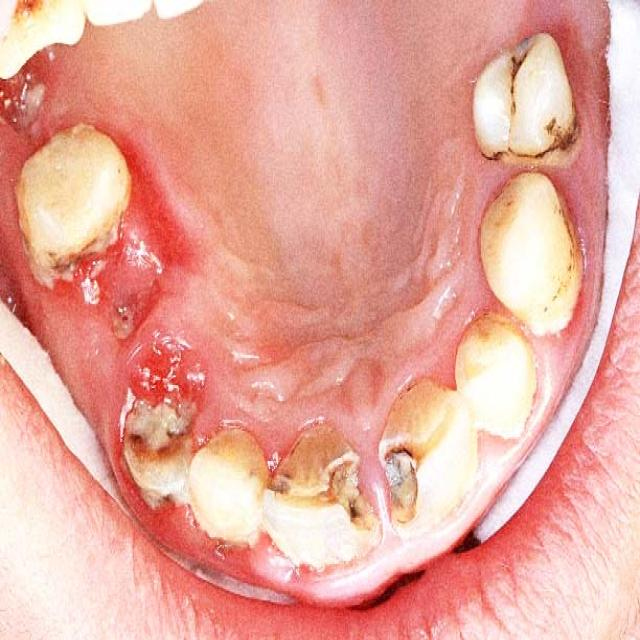caries: (122, 414, 196, 506), (319, 446, 379, 542), (381, 431, 435, 536), (493, 38, 542, 116), (262, 448, 306, 514)
